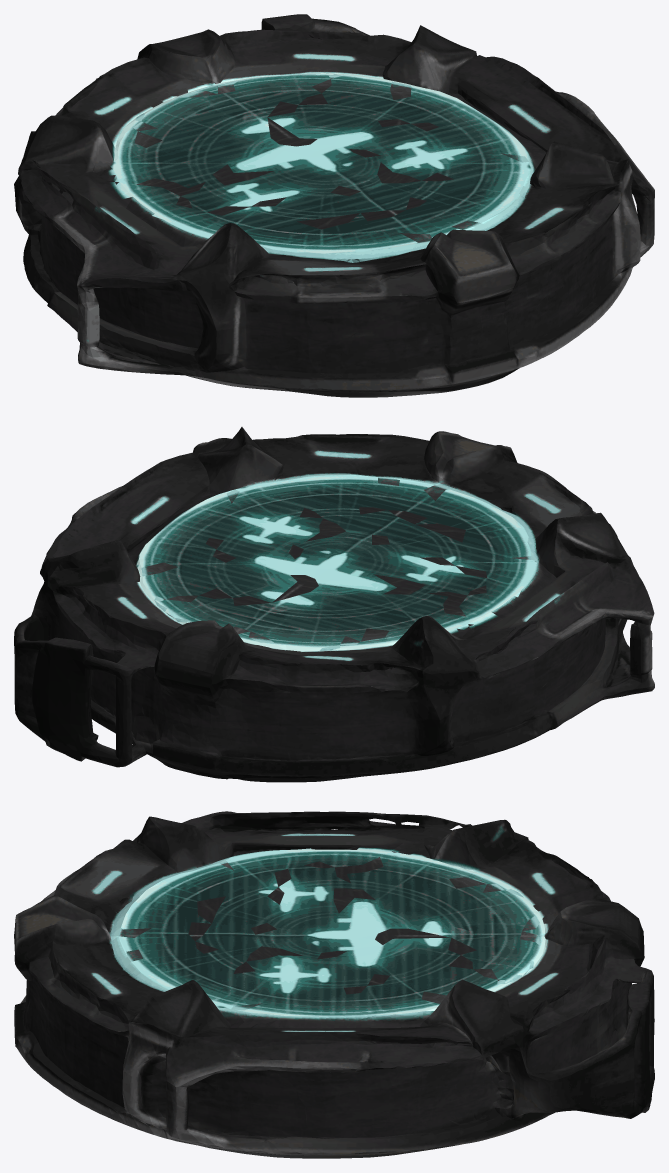
Rendered from SideFighterPU.obj.
3 renders of one model, top to bottom at view 1: azimuth 30°, elevation 25°; view 2: azimuth 150°, elevation 25°; view 3: azimuth 270°, elevation 25°, orthographic. The views are drawn at different scales.
Parts seen in each view (by area): view 1: SideFighterPU; view 2: SideFighterPU; view 3: SideFighterPU.
Part boxes in pixels (x1=…): SideFighterPU: x1=14, y1=14, x2=654, y2=397; SideFighterPU: x1=14, y1=427, x2=654, y2=782; SideFighterPU: x1=14, y1=811, x2=654, y2=1158.
Size of the model in its own units: 1.9 by 0.5048 by 1.94.
Materials: 1 (1 with a texture image).
